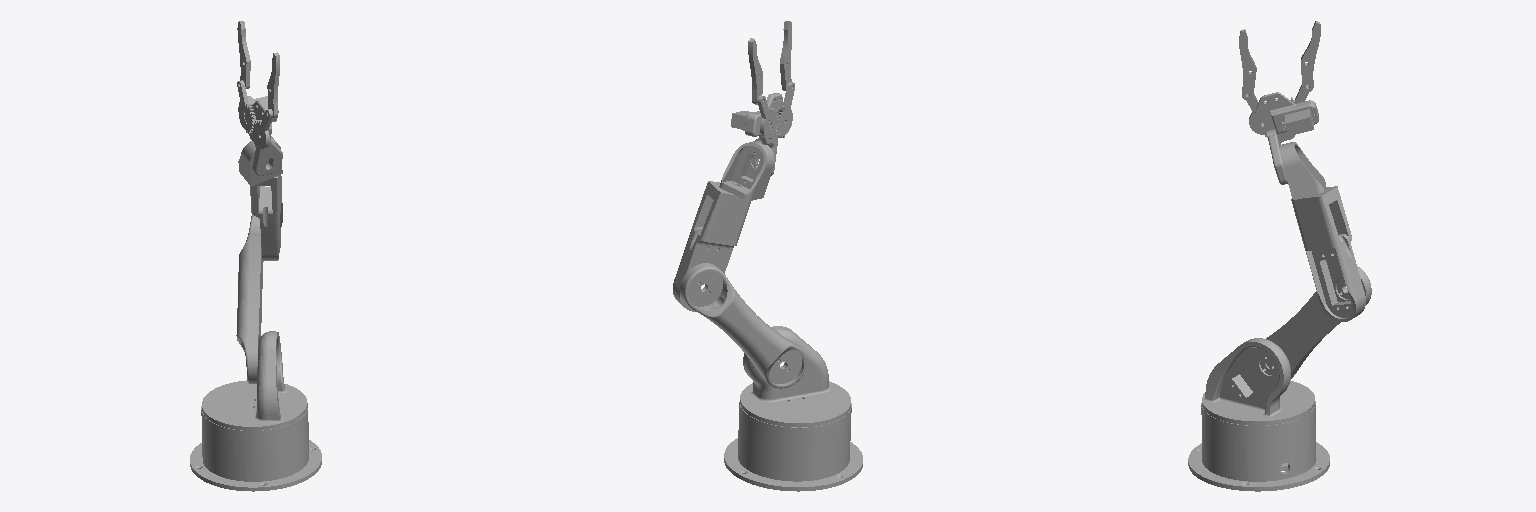
URDF robot description (robot):
<?xml version="1.0" ?>
<!-- =================================================================================== -->
<!-- |    This document was autogenerated by xacro from [local-path]/hackathon/src/robot_description/urdf/robot.xacro | -->
<!-- |    EDITING THIS FILE BY HAND IS NOT RECOMMENDED                                 | -->
<!-- =================================================================================== -->
<robot name="robot">
    <material name="silver">
        <color rgba="0.700 0.700 0.700 1.000" />
    </material>
    <transmission name="Revolute 4_tran">
        <type>transmission_interface/SimpleTransmission</type>
        <joint name="Revolute_4">
            <hardwareInterface>hardware_interface/EffortJointInterface</hardwareInterface>
        </joint>
        <actuator name="Revolute 4_actr">
            <hardwareInterface>hardware_interface/EffortJointInterface</hardwareInterface>
            <mechanicalReduction>1</mechanicalReduction>
        </actuator>
    </transmission>
    <transmission name="Revolute 5_tran">
        <type>transmission_interface/SimpleTransmission</type>
        <joint name="Revolute_5">
            <hardwareInterface>hardware_interface/EffortJointInterface</hardwareInterface>
        </joint>
        <actuator name="Revolute 5_actr">
            <hardwareInterface>hardware_interface/EffortJointInterface</hardwareInterface>
            <mechanicalReduction>1</mechanicalReduction>
        </actuator>
    </transmission>
    <transmission name="Revolute 8_tran">
        <type>transmission_interface/SimpleTransmission</type>
        <joint name="Revolute_8">
            <hardwareInterface>hardware_interface/EffortJointInterface</hardwareInterface>
        </joint>
        <actuator name="Revolute 8_actr">
            <hardwareInterface>hardware_interface/EffortJointInterface</hardwareInterface>
            <mechanicalReduction>1</mechanicalReduction>
        </actuator>
    </transmission>
    <transmission name="Revolute 24_tran">
        <type>transmission_interface/SimpleTransmission</type>
        <joint name="Revolute_24">
            <hardwareInterface>hardware_interface/EffortJointInterface</hardwareInterface>
        </joint>
        <actuator name="Revolute 24_actr">
            <hardwareInterface>hardware_interface/EffortJointInterface</hardwareInterface>
            <mechanicalReduction>1</mechanicalReduction>
        </actuator>
    </transmission>
    <transmission name="Revolute 26_tran">
        <type>transmission_interface/SimpleTransmission</type>
        <joint name="Revolute_26">
            <hardwareInterface>hardware_interface/EffortJointInterface</hardwareInterface>
        </joint>
        <actuator name="Revolute 26_actr">
            <hardwareInterface>hardware_interface/EffortJointInterface</hardwareInterface>
            <mechanicalReduction>1</mechanicalReduction>
        </actuator>
    </transmission>
    <transmission name="Revolute 31_tran">
        <type>transmission_interface/SimpleTransmission</type>
        <joint name="Revolute_31">
            <hardwareInterface>hardware_interface/EffortJointInterface</hardwareInterface>
        </joint>
        <actuator name="Revolute 31_actr">
            <hardwareInterface>hardware_interface/EffortJointInterface</hardwareInterface>
            <mechanicalReduction>1</mechanicalReduction>
        </actuator>
    </transmission>
    <transmission name="Revolute 44_tran">
        <type>transmission_interface/SimpleTransmission</type>
        <joint name="Revolute_44">
            <hardwareInterface>hardware_interface/EffortJointInterface</hardwareInterface>
        </joint>
        <actuator name="Revolute 44_actr">
            <hardwareInterface>hardware_interface/EffortJointInterface</hardwareInterface>
            <mechanicalReduction>1</mechanicalReduction>
        </actuator>
    </transmission>
    <transmission name="Revolute 42_tran">
        <type>transmission_interface/SimpleTransmission</type>
        <joint name="Revolute_42">
            <hardwareInterface>hardware_interface/EffortJointInterface</hardwareInterface>
        </joint>
        <actuator name="Revolute 42_actr">
            <hardwareInterface>hardware_interface/EffortJointInterface</hardwareInterface>
            <mechanicalReduction>1</mechanicalReduction>
        </actuator>
    </transmission>
    <transmission name="Revolute 43_tran">
        <type>transmission_interface/SimpleTransmission</type>
        <joint name="Revolute_43">
            <hardwareInterface>hardware_interface/EffortJointInterface</hardwareInterface>
        </joint>
        <actuator name="Revolute 43_actr">
            <hardwareInterface>hardware_interface/EffortJointInterface</hardwareInterface>
            <mechanicalReduction>1</mechanicalReduction>
        </actuator>
    </transmission>
    <gazebo>
        <plugin filename="libgazebo_ros_control.so" name="control" />
        <plugin name="gazebo_ros_control" filename="libgazebo_ros_control.so">
            <robotNamespace>/</robotNamespace>
        </plugin>
    </gazebo>
    <gazebo reference="base_link">
        <material>Gazebo/Silver</material>
        <mu1>0.2</mu1>
        <mu2>0.2</mu2>
        <selfCollide>true</selfCollide>
        <gravity>true</gravity>
    </gazebo>
    <gazebo reference="Arm_02.step_1">
        <material>Gazebo/Silver</material>
        <mu1>0.2</mu1>
        <mu2>0.2</mu2>
        <selfCollide>true</selfCollide>
    </gazebo>
    <gazebo reference="Arm_03.step_1">
        <material>Gazebo/Silver</material>
        <mu1>0.2</mu1>
        <mu2>0.2</mu2>
        <selfCollide>true</selfCollide>
    </gazebo>
    <gazebo reference="Part_2_gear_2.step_1">
        <material>Gazebo/Silver</material>
        <mu1>0.2</mu1>
        <mu2>0.2</mu2>
        <selfCollide>true</selfCollide>
    </gazebo>
    <gazebo reference="Gripper_Base.step_1">
        <material>Gazebo/Silver</material>
        <mu1>0.2</mu1>
        <mu2>0.2</mu2>
        <selfCollide>true</selfCollide>
    </gazebo>
    <gazebo reference="Servo_motor_micro_9g.step_1">
        <material>Gazebo/Silver</material>
        <mu1>0.2</mu1>
        <mu2>0.2</mu2>
        <selfCollide>true</selfCollide>
    </gazebo>
    <gazebo reference="Part_1_gear_2.step_1">
        <material>Gazebo/Silver</material>
        <mu1>0.2</mu1>
        <mu2>0.2</mu2>
        <selfCollide>true</selfCollide>
    </gazebo>
    <gazebo reference="Gripper.step_1">
        <material>Gazebo/Silver</material>
        <mu1>0.2</mu1>
        <mu2>0.2</mu2>
        <selfCollide>true</selfCollide>
    </gazebo>
    <gazebo reference="Gripper.step_1">
        <material>Gazebo/Silver</material>
        <mu1>0.2</mu1>
        <mu2>0.2</mu2>
        <selfCollide>true</selfCollide>
    </gazebo>
    <gazebo reference="robot_Gripper.step1_v1_1">
        <material>Gazebo/Silver</material>
        <mu1>0.2</mu1>
        <mu2>0.2</mu2>
        <selfCollide>true</selfCollide>
    </gazebo>
    <gazebo reference="robot_Gripper.step1_v1_1">
        <material>Gazebo/Silver</material>
        <mu1>0.2</mu1>
        <mu2>0.2</mu2>
        <selfCollide>true</selfCollide>
    </gazebo>
    <gazebo reference="Waist.step_1">
        <material>Gazebo/Silver</material>
        <mu1>0.2</mu1>
        <mu2>0.2</mu2>
        <selfCollide>true</selfCollide>
    </gazebo>
    <gazebo reference="Arm_01.step_1">
        <material>Gazebo/Silver</material>
        <mu1>0.2</mu1>
        <mu2>0.2</mu2>
        <selfCollide>true</selfCollide>
    </gazebo>
    <link name="base_link">
        <inertial>
            <origin rpy="0 0.2 0" xyz="0.005160276109435298 0.0027084129987447227 0.026026914877480482" />
            <mass value="0.7428696086251847" />
            <inertia ixx="0.001021" ixy="-2e-05" ixz="7e-06" iyy="0.001049" iyz="7e-06" izz="0.001616" />
        </inertial>
        <visual>
            <origin rpy="0 0 0" xyz="0 0 0" />
            <geometry>
                <mesh filename="package://robot_description/meshes/base_link.stl" scale="0.001 0.001 0.001" />
            </geometry>
            <material name="silver" />
        </visual>
        <collision>
            <origin rpy="0 0 0" xyz="0 0 0" />
            <geometry>
                <mesh filename="package://robot_description/meshes/base_link.stl" scale="0.001 0.001 0.001" />
            </geometry>
        </collision>
    </link>
    <link name="Arm_02.step_1">
        <inertial>
            <origin rpy="0 0.2 0" xyz="-0.003592446758183772 -0.014135752925911696 0.0394951780060995" />
            <mass value="0.3697152157519886" />
            <inertia ixx="0.000407" ixy="-3e-05" ixz="6.6e-05" iyy="0.000389" iyz="8.1e-05" izz="0.000105" />
        </inertial>
        <visual>
            <origin rpy="0 0 0" xyz="-0.055174 -0.076664 -0.191534" />
            <geometry>
                <mesh filename="package://robot_description/meshes/Arm_02.step_1.stl" scale="0.001 0.001 0.001" />
            </geometry>
            <material name="silver" />
        </visual>
        <collision>
            <origin rpy="0 0 0" xyz="-0.055174 -0.076664 -0.191534" />
            <geometry>
                <mesh filename="package://robot_description/meshes/Arm_02.step_1.stl" scale="0.001 0.001 0.001" />
            </geometry>
        </collision>
    </link>
    <link name="Arm_03.step_1">
        <inertial>
            <origin rpy="0 0.2 0" xyz="-0.008471262397111417 -0.00952529589921284 0.014418181004394182" />
            <mass value="0.12929190705351673" />
            <inertia ixx="3e-05" ixy="-1e-06" ixz="2e-06" iyy="3.6e-05" iyz="9e-06" izz="2.4e-05" />
        </inertial>
        <visual>
            <origin rpy="0 0 0" xyz="-0.038998 -0.045832 -0.274607" />
            <geometry>
                <mesh filename="package://robot_description/meshes/Arm_03.step_1.stl" scale="0.001 0.001 0.001" />
            </geometry>
            <material name="silver" />
        </visual>
        <collision>
            <origin rpy="0 0 0" xyz="-0.038998 -0.045832 -0.274607" />
            <geometry>
                <mesh filename="package://robot_description/meshes/Arm_03.step_1.stl" scale="0.001 0.001 0.001" />
            </geometry>
        </collision>
    </link>
    <link name="Part_2_gear_2.step_1">
        <inertial>
            <origin rpy="0 0 0" xyz="-0.0019345128307690623 -0.005439855470670305 0.00023644869023009552" />
            <mass value="0.020866715753086653" />
            <inertia ixx="4e-06" ixy="0.0" ixz="-0.0" iyy="1e-06" iyz="-0.0" izz="3e-06" />
        </inertial>
        <visual>
            <origin rpy="0 0 0" xyz="-0.015316 -0.006244 -0.330746" />
            <geometry>
                <mesh filename="package://robot_description/meshes/Part_2_gear_2.step_1.stl" scale="0.001 0.001 0.001" />
            </geometry>
            <material name="silver" />
        </visual>
        <collision>
            <origin rpy="0 0 0" xyz="-0.015316 -0.006244 -0.330746" />
            <geometry>
                <mesh filename="package://robot_description/meshes/Part_2_gear_2.step_1.stl" scale="0.001 0.001 0.001" />
            </geometry>
        </collision>
    </link>
    <link name="Gripper_Base.step_1">
        <inertial>
            <origin rpy="0 0 0" xyz="-0.006039901919946484 -0.0027152948165855076 0.025224632891133025" />
            <mass value="0.1259188443483361" />
            <inertia ixx="7.1e-05" ixy="0.0" ixz="1e-05" iyy="6.2e-05" iyz="-4e-06" izz="2.1e-05" />
        </inertial>
        <visual>
            <origin rpy="0 0 0" xyz="-0.028594 -0.025213 -0.296325" />
            <geometry>
                <mesh filename="package://robot_description/meshes/Gripper_Base.step_1.stl" scale="0.001 0.001 0.001" />
            </geometry>
            <material name="silver" />
        </visual>
        <collision>
            <origin rpy="0 0 0" xyz="-0.028594 -0.025213 -0.296325" />
            <geometry>
                <mesh filename="package://robot_description/meshes/Gripper_Base.step_1.stl" scale="0.001 0.001 0.001" />
            </geometry>
        </collision>
    </link>
    <link name="Servo_motor_micro_9g.step_1">
        <inertial>
            <origin rpy="0 0 0" xyz="0.014115900275686065 0.004671900820636288 0.0010411024196047558" />
            <mass value="0.05634268516919814" />
            <inertia ixx="3e-06" ixy="-0.0" ixz="-0.0" iyy="4e-06" iyz="-1e-06" izz="5e-06" />
        </inertial>
        <visual>
            <origin rpy="0 0 0" xyz="-0.015122 -0.032168 -0.337924" />
            <geometry>
                <mesh filename="package://robot_description/meshes/Servo_motor_micro_9g.step_1.stl" scale="0.001 0.001 0.001" />
            </geometry>
            <material name="silver" />
        </visual>
        <collision>
            <origin rpy="0 0 0" xyz="-0.015122 -0.032168 -0.337924" />
            <geometry>
                <mesh filename="package://robot_description/meshes/Servo_motor_micro_9g.step_1.stl" scale="0.001 0.001 0.001" />
            </geometry>
        </collision>
    </link>
    <link name="Part_1_gear_2.step_1">
        <inertial>
            <origin rpy="0 0 0" xyz="-0.0019952182319104145 0.0042041364935786404 0.0036744285304463054" />
            <mass value="0.020267194631427798" />
            <inertia ixx="4e-06" ixy="0.0" ixz="-0.0" iyy="1e-06" iyz="-1e-06" izz="2e-06" />
        </inertial>
        <visual>
            <origin rpy="0 0 0" xyz="-0.015122 -0.032168 -0.337924" />
            <geometry>
                <mesh filename="package://robot_description/meshes/Part_1_gear_2.step_1.stl" scale="0.001 0.001 0.001" />
            </geometry>
            <material name="silver" />
        </visual>
        <collision>
            <origin rpy="0 0 0" xyz="-0.015122 -0.032168 -0.337924" />
            <geometry>
                <mesh filename="package://robot_description/meshes/Part_1_gear_2.step_1.stl" scale="0.001 0.001 0.001" />
            </geometry>
        </collision>
    </link>
    <link name="robot_Gripper.step1_v1_1">
        <inertial>
            <origin rpy="0 0 0" xyz="0.002340459323116762 -0.002989299603796597 0.003797449185666102" />
            <mass value="0.020053604711887" />
            <inertia ixx="6e-06" ixy="0.0" ixz="-0.0" iyy="6e-06" iyz="1e-06" izz="0.0" />
        </inertial>
        <visual>
            <origin rpy="0 0 0" xyz="-0.015937 0.02234 -0.350609" />
            <geometry>
                <mesh filename="package://robot_description/meshes/robot_Gripper.step1_v1_1.stl" scale="0.001 0.001 0.001" />
            </geometry>
            <material name="silver" />
        </visual>
        <collision>
            <origin rpy="0 0 0" xyz="-0.015937 0.02234 -0.350609" />
            <geometry>
                <mesh filename="package://robot_description/meshes/robot_Gripper.step1_v1_1.stl" scale="0.001 0.001 0.001" />
            </geometry>
        </collision>
    </link>
    <link name="Waist.step_1">
        <inertial>
            <origin rpy="0 0 0" xyz="0.006414134056216764 -0.003189639915015318 0.01955990648290272" />
            <mass value="0.5781357922590845" />
            <inertia ixx="0.000493" ixy="-6.4e-05" ixz="-7.1e-05" iyy="0.00044" iyz="-1.8e-05" izz="0.000467" />
        </inertial>
        <visual>
            <origin rpy="0 0 0" xyz="-0.003126 -0.001866 -0.059863" />
            <geometry>
                <mesh filename="package://robot_description/meshes/Waist.step_1.stl" scale="0.001 0.001 0.001" />
            </geometry>
            <material name="silver" />
        </visual>
        <collision>
            <origin rpy="0 0 0" xyz="-0.003126 -0.001866 -0.059863" />
            <geometry>
                <mesh filename="package://robot_description/meshes/Waist.step_1.stl" scale="0.001 0.001 0.001" />
            </geometry>
        </collision>
    </link>
    <link name="Arm_01.step_1">
        <inertial>
            <origin rpy="0 0 0" xyz="0.01466432189256404 0.03730233924473003 0.0453548332023245" />
            <mass value="0.5035804638838921" />
            <inertia ixx="0.000749" ixy="-0.000161" ixz="-0.000197" iyy="0.000603" iyz="-0.00031" izz="0.000388" />
        </inertial>
        <visual>
            <origin rpy="0 0 0" xyz="-0.012969 -0.010778 -0.100553" />
            <geometry>
                <mesh filename="package://robot_description/meshes/Arm_01.step_1.stl" scale="0.001 0.001 0.001" />
            </geometry>
            <material name="silver" />
        </visual>
        <collision>
            <origin rpy="0 0 0" xyz="-0.012969 -0.010778 -0.100553" />
            <geometry>
                <mesh filename="package://robot_description/meshes/Arm_01.step_1.stl" scale="0.001 0.001 0.001" />
            </geometry>
        </collision>
    </link>
    <link name="Gripper.step_1">
        <inertial>
            <origin rpy="0 0 0" xyz="0.0023163136457740787 0.00044229427431653756 0.004823903757310233" />
            <mass value="0.02005360471188671" />
            <inertia ixx="6e-06" ixy="0.0" ixz="-0.0" iyy="5e-06" iyz="2e-06" izz="1e-06" />
        </inertial>
        <visual>
            <origin rpy="0 0 0" xyz="-0.015498 -0.043643 -0.372614" />
            <geometry>
                <mesh filename="package://robot_description/meshes/Gripper.step_1.stl" scale="0.001 0.001 0.001" />
            </geometry>
            <material name="silver" />
        </visual>
        <collision>
            <origin rpy="0 0 0" xyz="-0.015498 -0.043643 -0.372614" />
            <geometry>
                <mesh filename="package://robot_description/meshes/Gripper.step_1.stl" scale="0.001 0.001 0.001" />
            </geometry>
        </collision>
    </link>
    <joint name="Revolute_4" type="revolute">
        <origin rpy="0 0 0" xyz="0.042205 0.065886 0.090981" />
        <parent link="Arm_01.step_1" />
        <child link="Arm_02.step_1" />
        <axis xyz="-0.828979 0.558915 -0.020195" />
        <limit effort="100" lower="0.0" upper="3.141593" velocity="100" />
    </joint>
    <joint name="Revolute_5" type="revolute">
        <origin rpy="0 0 0" xyz="-0.016176 -0.030832 0.083073" />
        <parent link="Arm_02.step_1" />
        <child link="Arm_03.step_1" />
        <axis xyz="-0.200205 -0.26284 0.94384" />
        <limit effort="100" lower="0.0" upper="6.283185" velocity="100" />
    </joint>
    <joint name="Revolute_8" type="revolute">
        <origin rpy="0 0 0" xyz="-0.013278 -0.018969 0.034421" />
        <parent link="Gripper_Base.step_1" />
        <child link="Part_2_gear_2.step_1" />
        <axis xyz="0.999826 0.011538 -0.014668" />
        <limit effort="100" lower="-0.558505" upper="0.698132" velocity="100" />
    </joint>
    <joint name="Revolute_24" type="revolute">
        <origin rpy="0 0 0" xyz="-0.010404 -0.020619 0.021718" />
        <parent link="Arm_03.step_1" />
        <child link="Gripper_Base.step_1" />
        <axis xyz="-0.007206 0.963712 0.266845" />
        <limit effort="100" lower="-1.570796" upper="1.570796" velocity="100" />
    </joint>
    <joint name="Rigid_25" type="fixed">
        <origin rpy="0 0 0" xyz="-0.013472 0.006955 0.041599" />
        <parent link="Gripper_Base.step_1" />
        <child link="Servo_motor_micro_9g.step_1" />
    </joint>
    <joint name="Revolute_26" type="revolute">
        <origin rpy="0 0 0" xyz="0.0 0.0 0.0" />
        <parent link="Servo_motor_micro_9g.step_1" />
        <child link="Part_1_gear_2.step_1" />
        <axis xyz="-0.999826 -0.011538 0.014668" />
        <limit effort="100" lower="0.034907" upper="1.239184" velocity="100" />
    </joint>
    <joint name="Revolute_31" type="revolute">
        <origin rpy="0 0 0" xyz="0.000621 -0.028584 0.019863" />
        <parent link="Part_2_gear_2.step_1" />
        <child link="robot_Gripper.step1_v1_1" />
        <axis xyz="-0.999826 -0.011538 0.014668" />
        <limit effort="100" lower="-0.645772" upper="1.134464" velocity="100" />
    </joint>
    <joint name="Revolute_42" type="continuous">
        <origin rpy="0 0 0" xyz="0.003126 0.001866 0.059863" />
        <parent link="base_link" />
        <child link="Waist.step_1" />
        <axis xyz="-0.030811 -0.009585 0.999479" />
    </joint>
    <joint name="Revolute_43" type="continuous">
        <origin rpy="0 0 0" xyz="0.009843 0.008912 0.04069" />
        <parent link="Waist.step_1" />
        <child link="Arm_01.step_1" />
        <axis xyz="0.828979 -0.558915 0.020195" />
    </joint>
    <joint name="Revolute_44" type="revolute">
        <origin rpy="0 0 0" xyz="0.000376 0.011475 0.03469" />
        <parent link="Part_1_gear_2.step_1" />
        <child link="Gripper.step_1" />
        <axis xyz="0.999826 0.011538 -0.014668" />
        <limit effort="100" lower="0.0" upper="1.204277" velocity="100" />
    </joint>
</robot>

--- Render facts (derived) ---
Views: 3 orthographic renders of the robot side by side, from view 1: azimuth 30°, elevation 25°; view 2: azimuth 150°, elevation 25°; view 3: azimuth 270°, elevation 25°.
Robot: robot — 11 links, 10 joints (7 revolute, 2 continuous, 1 fixed); root link base_link; default pose: joints at zero except 1 at the middle of their limits (Revolute_26 = 0.637).
Visible links, largest first — view 1: base_link, Waist.step_1, Arm_01.step_1, Arm_02.step_1, Gripper_Base.step_1, Arm_03.step_1, Gripper.step_1, robot_Gripper.step1_v1_1, Part_1_gear_2.step_1, Part_2_gear_2.step_1; view 2: base_link, Arm_01.step_1, Waist.step_1, Arm_02.step_1, Arm_03.step_1, Gripper_Base.step_1, robot_Gripper.step1_v1_1, Gripper.step_1, Part_2_gear_2.step_1, Part_1_gear_2.step_1; view 3: base_link, Waist.step_1, Arm_02.step_1, Arm_01.step_1, Gripper_Base.step_1, Arm_03.step_1, Gripper.step_1, robot_Gripper.step1_v1_1, Servo_motor_micro_9g.step_1.
Link boxes in pixels (x1,y1,x2,y2): base_link: [190, 406, 321, 491]; Waist.step_1: [202, 331, 307, 430]; Arm_01.step_1: [236, 214, 263, 383]; Arm_02.step_1: [250, 175, 282, 260]; Gripper_Base.step_1: [238, 96, 282, 175]; Arm_03.step_1: [238, 136, 282, 186]; Gripper.step_1: [237, 21, 250, 88]; robot_Gripper.step1_v1_1: [267, 52, 279, 117]; Part_1_gear_2.step_1: [237, 80, 256, 133]; Part_2_gear_2.step_1: [252, 109, 272, 148]; base_link: [724, 402, 862, 491]; Arm_01.step_1: [680, 263, 806, 388]; Waist.step_1: [740, 326, 850, 427]; Arm_02.step_1: [673, 181, 750, 311]; Arm_03.step_1: [719, 141, 774, 200]; Gripper_Base.step_1: [745, 93, 783, 175]; robot_Gripper.step1_v1_1: [780, 21, 791, 90]; Gripper.step_1: [748, 38, 762, 104]; Part_2_gear_2.step_1: [775, 82, 794, 137]; Part_1_gear_2.step_1: [757, 95, 778, 138]; base_link: [1188, 401, 1329, 491]; Waist.step_1: [1202, 338, 1314, 425]; Arm_02.step_1: [1291, 186, 1365, 321]; Arm_01.step_1: [1260, 266, 1371, 378]; Gripper_Base.step_1: [1255, 92, 1318, 184]; Arm_03.step_1: [1280, 142, 1325, 199]; Gripper.step_1: [1301, 21, 1320, 91]; robot_Gripper.step1_v1_1: [1239, 29, 1256, 100]; Servo_motor_micro_9g.step_1: [1279, 107, 1318, 135].
Bounding box of the posed robot: 0.1348 × 0.1571 × 0.4256 m (x, y, z).
11 mesh visuals loaded from 11 distinct referenced files (11 binary STL).